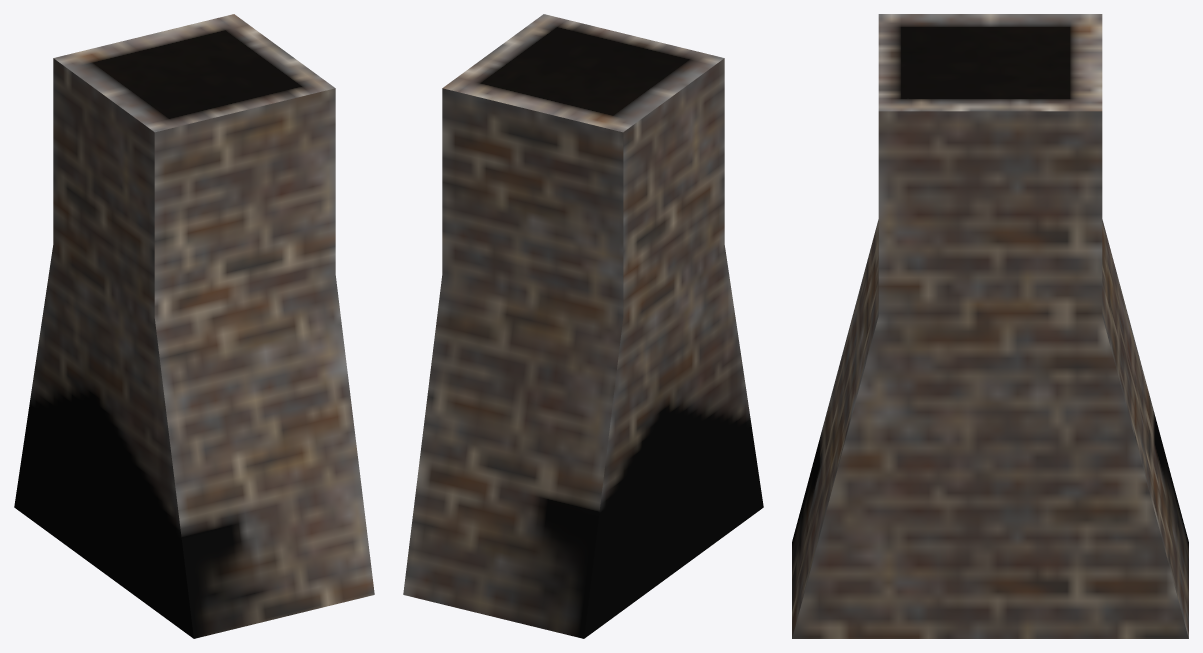
File: House_02_09.fbx
3 views of the same model, side by side, from view 1: azimuth 30°, elevation 25°; view 2: azimuth 150°, elevation 25°; view 3: azimuth 270°, elevation 25° (orthographic). The views are drawn at different scales.
Parts seen in each view (by area): view 1: Object001.003; view 2: Object001.003; view 3: Object001.003.
Boxes of the visible parts, box(x1,y1,x2,y2) form: Object001.003: box(14, 14, 374, 638); Object001.003: box(403, 14, 763, 638); Object001.003: box(792, 14, 1188, 638).
Bounding box in the file's own units: 1.25 × 3.17 × 2.16.
1 material, 1 textured.
